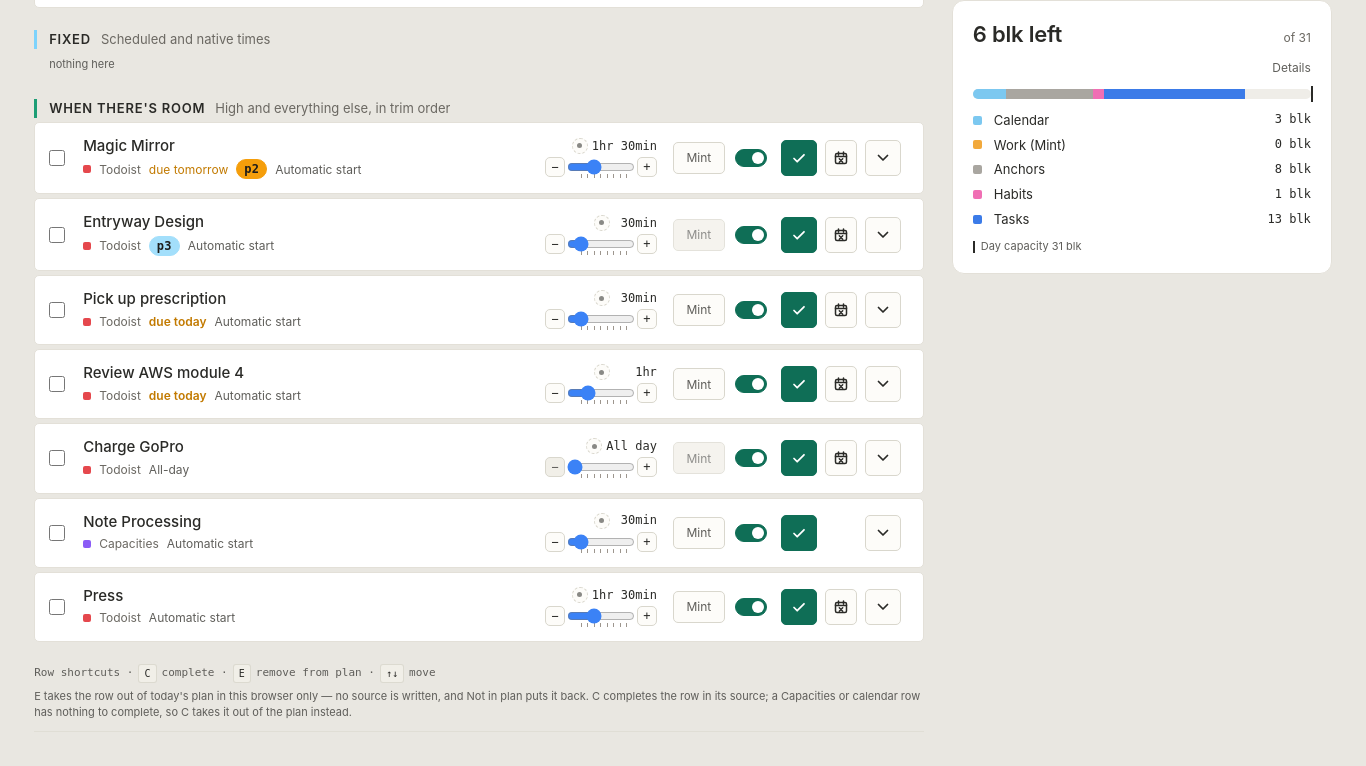
Test: expanded row panel › gives the Mint toggle a reason only when disabled
(page scrolled)
Check: the 7th button "Mint" is enabled, box x1=673 y1=591 x2=725 y2=623
What coordinates should you click on to do the following:
click the 7th button named "Expand"
I would click on:
 (883, 607)
Its box is x1=865 y1=589 x2=901 y2=625.
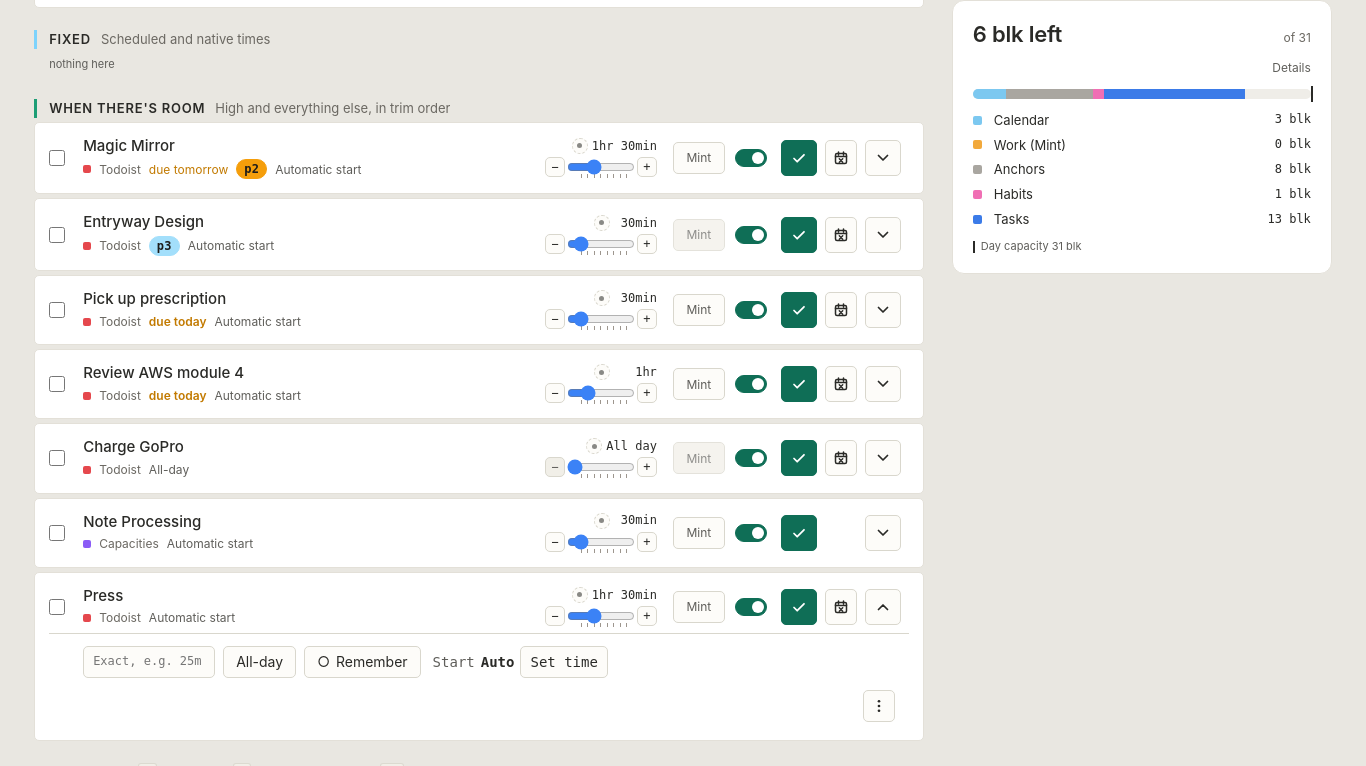
What coordinates should you click on to do the following:
click the button with class "trow__tog"
I would click on:
 (260, 662)
Its box is x1=223 y1=646 x2=296 y2=678.
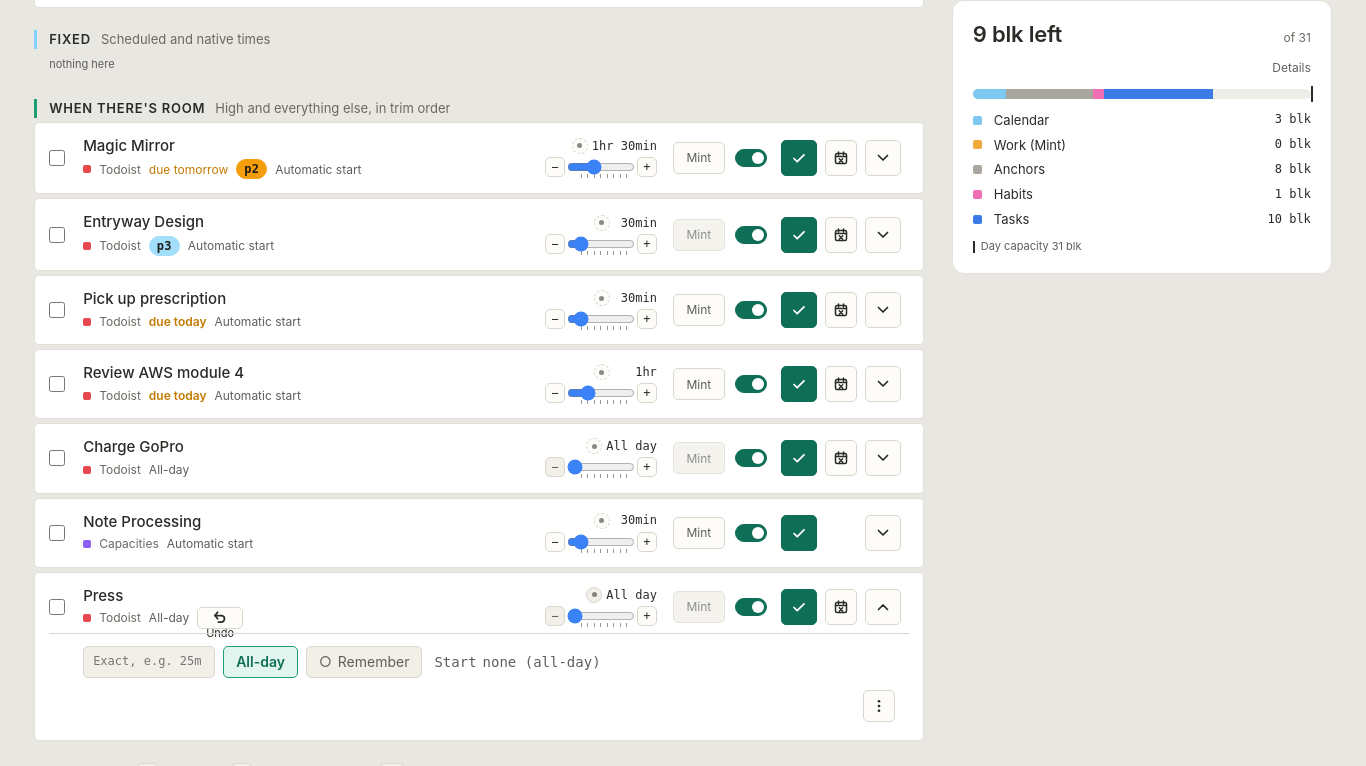
Check: the button "Mint" in the row of "Entryway Design" is disabled, box x1=673 y1=219 x2=725 y2=251
Check: the 7th button "Mint" is disabled, box x1=673 y1=591 x2=725 y2=623
